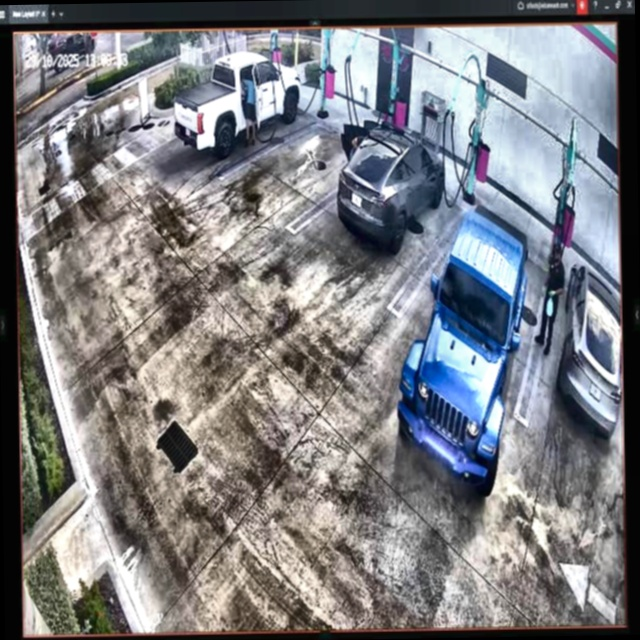Car: (395, 203, 531, 498), (340, 119, 445, 244), (175, 52, 300, 155)
